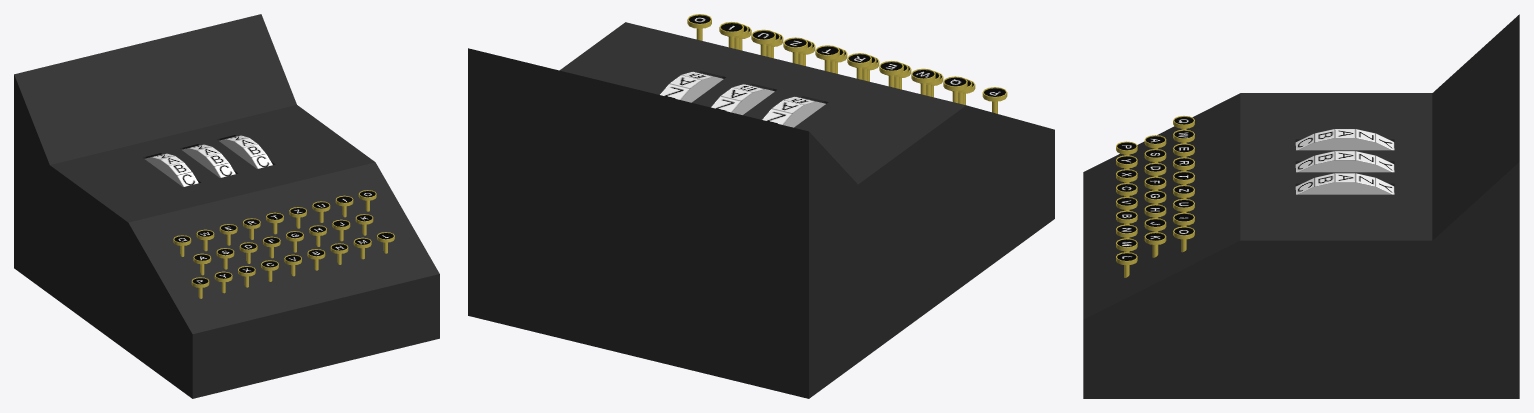
File: Enigma Machine.fbx
3 renders of one model, left to right at view 1: azimuth 30°, elevation 25°; view 2: azimuth 150°, elevation 25°; view 3: azimuth 270°, elevation 25°, orthographic. The views are drawn at different scales.
Visible parts, largest first — view 1: Body, Code Wheel 2, Code Wheel 3, Code Wheel 1; view 2: Body, Code Wheel 1, Code Wheel 3, Code Wheel 2; view 3: Body, Code Wheel 1, Code Wheel 2, Code Wheel 3.
Part boxes in pixels (x1,y1,x2,y2): Body: (14,14,439,398); Code Wheel 2: (181,144,235,177); Code Wheel 3: (219,135,272,168); Code Wheel 1: (145,153,198,186); Body: (468,22,1054,398); Code Wheel 1: (762,96,825,127); Code Wheel 3: (660,71,723,102); Code Wheel 2: (711,84,774,114); Body: (1083,14,1519,398); Code Wheel 1: (1295,129,1394,150); Code Wheel 2: (1295,151,1394,172); Code Wheel 3: (1295,173,1394,194).
Size of the model in its own units: 400 by 300 by 500.
Materials: 5 (2 with a texture image).
